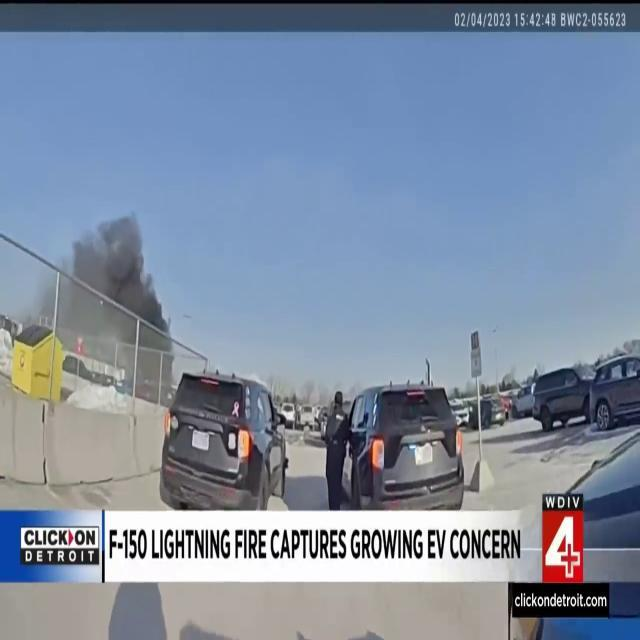Fire: (236, 418, 254, 462)
Smoke: (54, 204, 170, 336)
